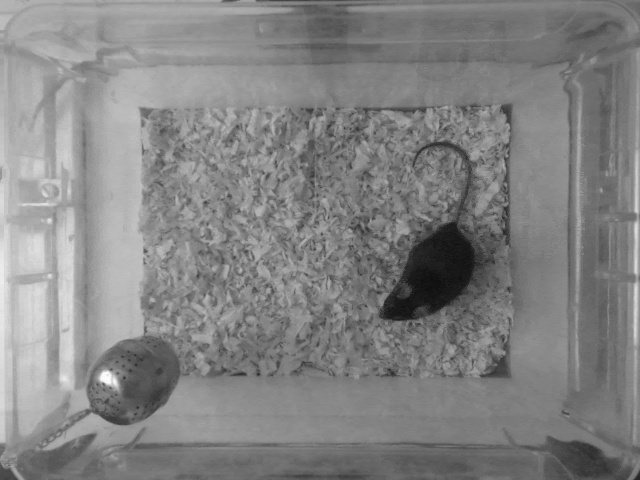mice: (377, 135, 477, 324)
